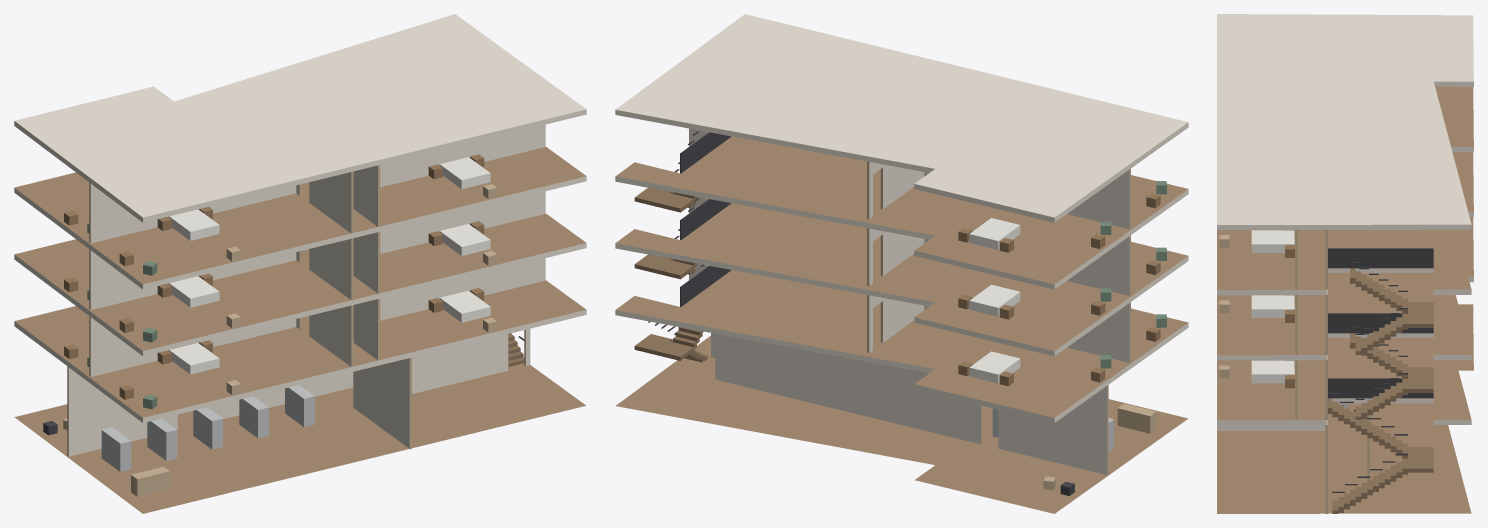
Rendered from interior.glb.
The picture shows the model from 3 angles, left to right: view 1: azimuth 30°, elevation 25°; view 2: azimuth 150°, elevation 25°; view 3: azimuth 270°, elevation 25°; orthographic projection. The views are drawn at different scales.
Visible parts, largest first — view 1: slabs, partitions, coarse-s0, coarse-s3, coarse-s2, coarse-s1; view 2: slabs, partitions, stair, coarse-s2, coarse-s1, coarse-s3, coarse-s0; view 3: slabs, stair, partitions, coarse-s1, coarse-s2, coarse-s3.
Boxes of the visible parts, x1,y1,x2,y2 form: slabs: (14,14,586,513); partitions: (67,124,545,456); coarse-s0: (43,385,314,496); coarse-s3: (64,154,497,275); coarse-s2: (64,221,497,342); coarse-s1: (64,288,497,409); slabs: (615,14,1188,513); partitions: (689,128,1130,475); stair: (634,131,731,362); coarse-s2: (958,247,1166,319); coarse-s1: (958,314,1166,386); coarse-s3: (958,181,1166,252); coarse-s0: (992,403,1156,495); slabs: (1217,14,1473,513); stair: (1328,248,1433,513); partitions: (1217,230,1369,513); coarse-s1: (1219,360,1294,388); coarse-s2: (1219,295,1294,322); coarse-s3: (1219,230,1294,257).
Bounding box in the file's own units: 23.2 × 14.83 × 11.93.
